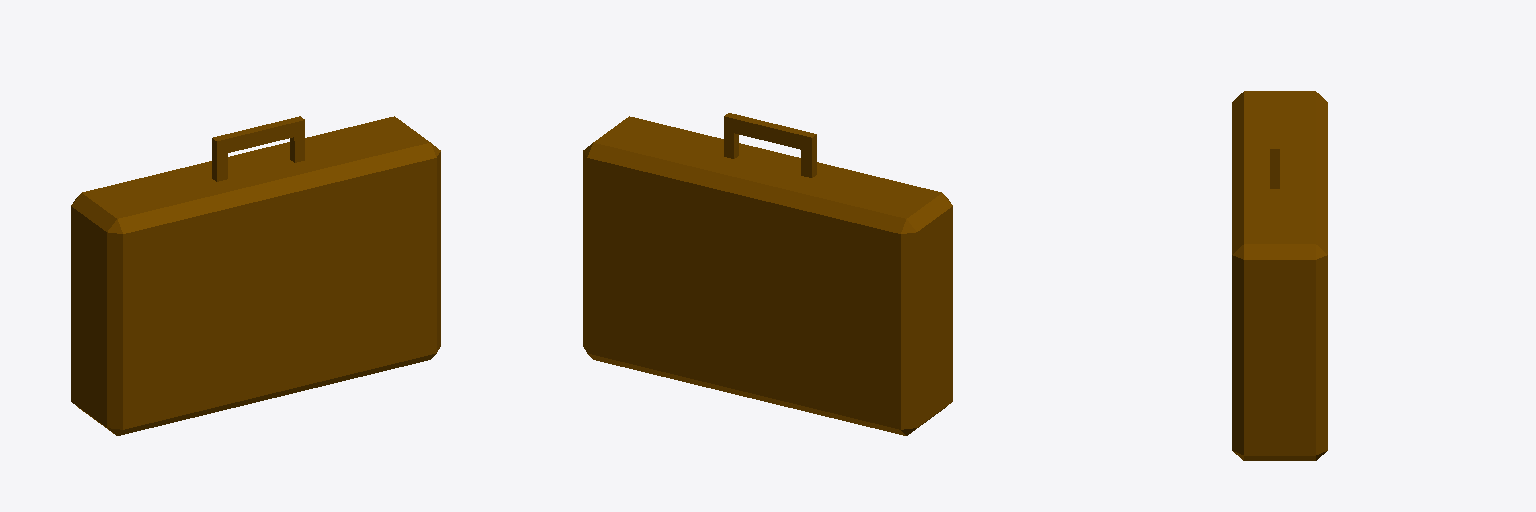
The model's file is suitcase.obj.
3 views of the same model, side by side, from view 1: azimuth 30°, elevation 25°; view 2: azimuth 150°, elevation 25°; view 3: azimuth 270°, elevation 25° (orthographic).
Visible parts, largest first — view 1: RightSide, LeftSide; view 2: LeftSide, RightSide; view 3: LeftSide, RightSide.
Part boxes in pixels (bbox=[...]): RightSide: bbox=[89, 116, 440, 435]; LeftSide: bbox=[71, 116, 411, 422]; LeftSide: bbox=[583, 129, 934, 435]; RightSide: bbox=[612, 113, 952, 422]; LeftSide: bbox=[1280, 91, 1327, 460]; RightSide: bbox=[1232, 91, 1279, 460].
Bounding box in the file's own units: 0.3217 × 0.2373 × 0.08.